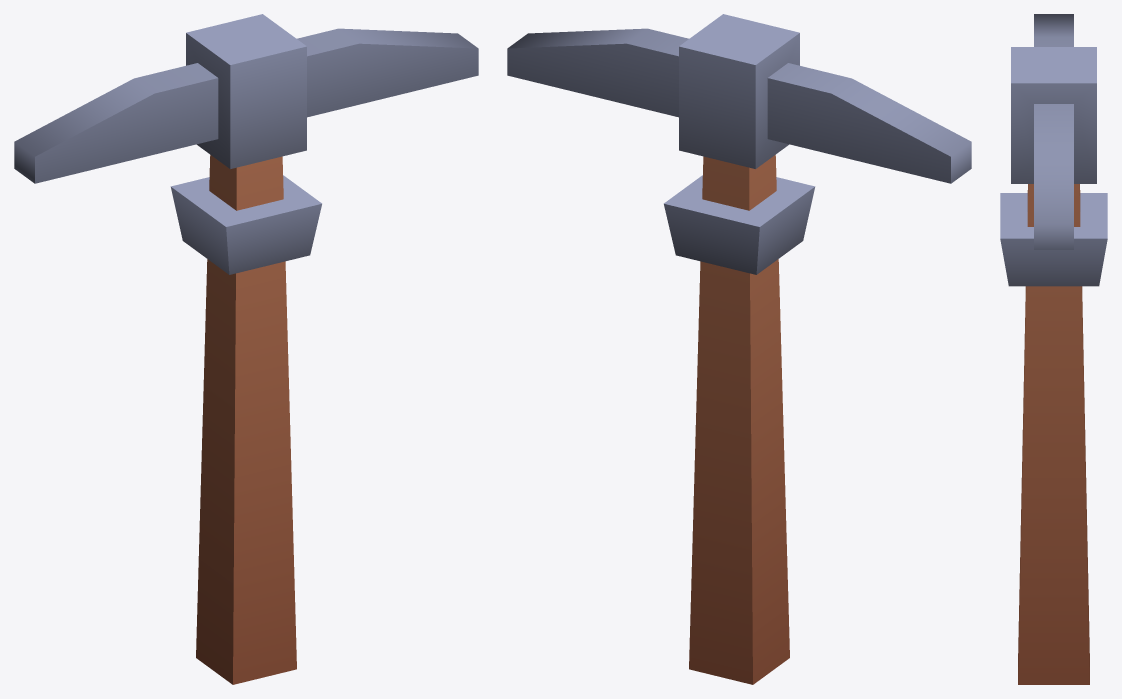
The model's file is survival-tool-pickaxe.glb.
3 renders of one model, left to right at view 1: azimuth 30°, elevation 25°; view 2: azimuth 150°, elevation 25°; view 3: azimuth 270°, elevation 25°, orthographic. The views are drawn at different scales.
Visible parts, largest first — view 1: survival-tool-pickaxe; view 2: survival-tool-pickaxe; view 3: survival-tool-pickaxe.
Boxes of the visible parts, <box> form: survival-tool-pickaxe: <box>14,14,478,684</box>; survival-tool-pickaxe: <box>507,14,971,684</box>; survival-tool-pickaxe: <box>1000,14,1107,684</box>.
Size of the model in its own units: 0.1786 by 0.24 by 0.0387.
